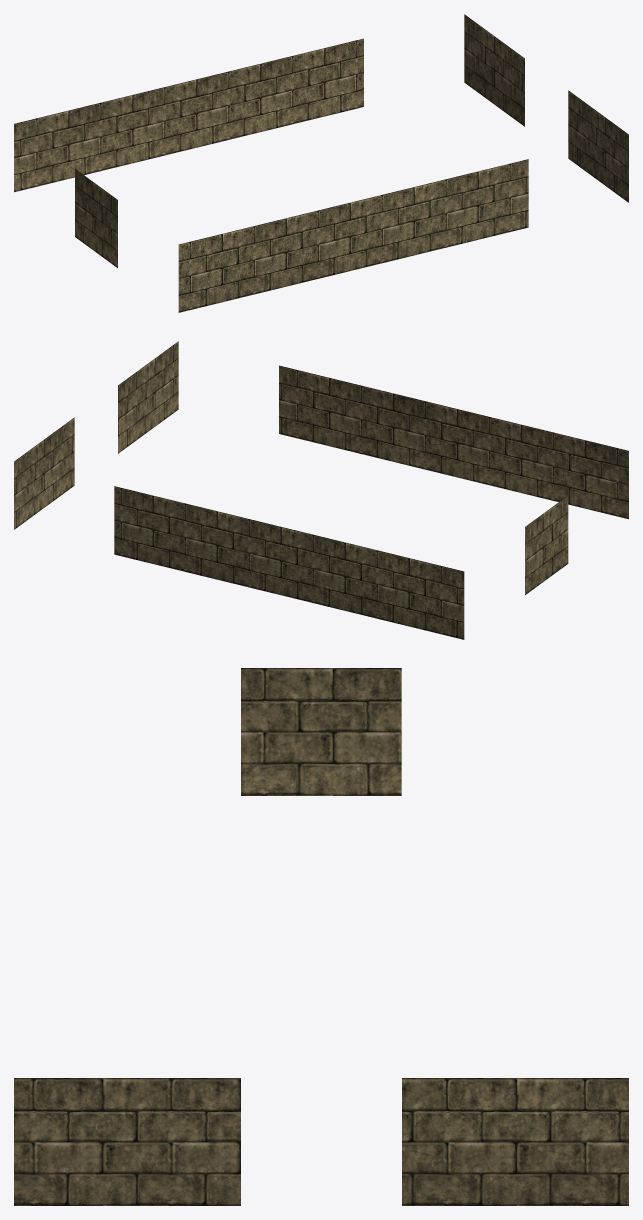
File: OVERHILL_A_01_LINE190.fbx
3 renders of one model, top to bottom at view 1: azimuth 30°, elevation 25°; view 2: azimuth 150°, elevation 25°; view 3: azimuth 270°, elevation 25°, orthographic. The views are drawn at different scales.
Parts seen in each view (by area): view 1: OVERHILL_A_01_LINE190; view 2: OVERHILL_A_01_LINE190; view 3: OVERHILL_A_01_LINE190.
Boxes of the visible parts, x1,y1,x2,y2 form: OVERHILL_A_01_LINE190: [14, 14, 628, 312]; OVERHILL_A_01_LINE190: [14, 341, 628, 639]; OVERHILL_A_01_LINE190: [14, 668, 628, 1205].
Bounding box in the file's own units: 236624 × 34378 × 149972.
Materials: 1 (1 with a texture image).
